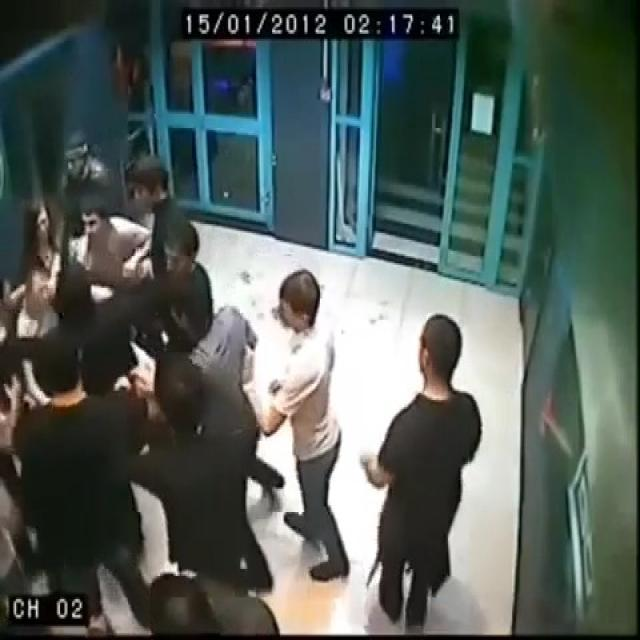fight: (34, 259, 162, 379)
